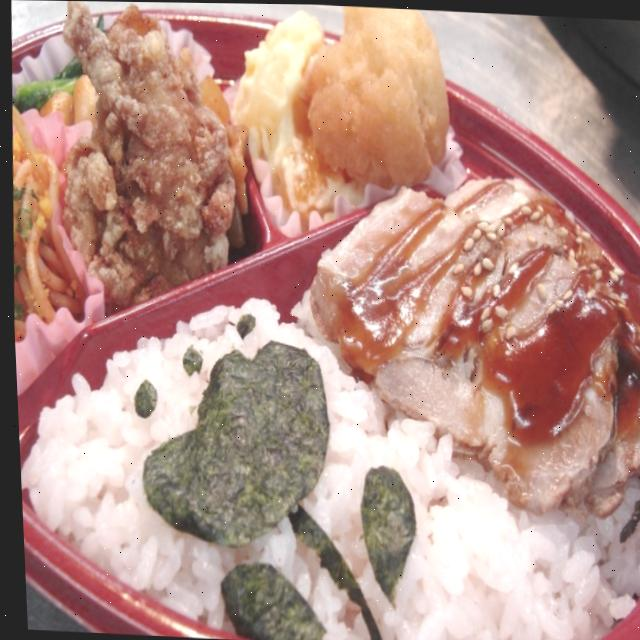鸡肉料理 含炸鸡: (6, 0, 112, 143)
